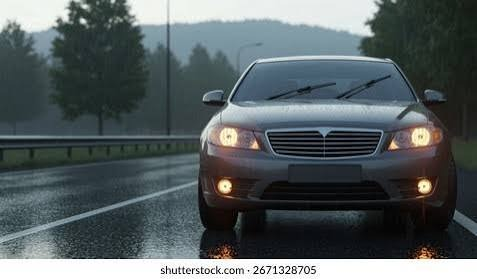car: (196, 52, 451, 248)
